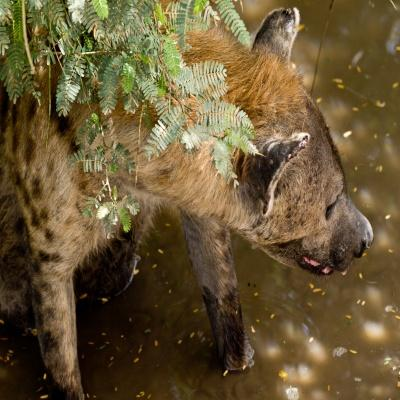hyenas: (34, 0, 397, 385)
